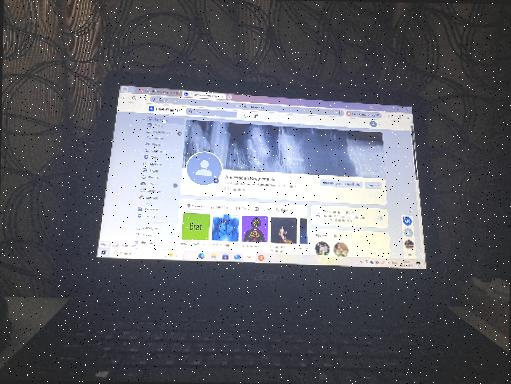vk: (97, 101, 426, 259)
